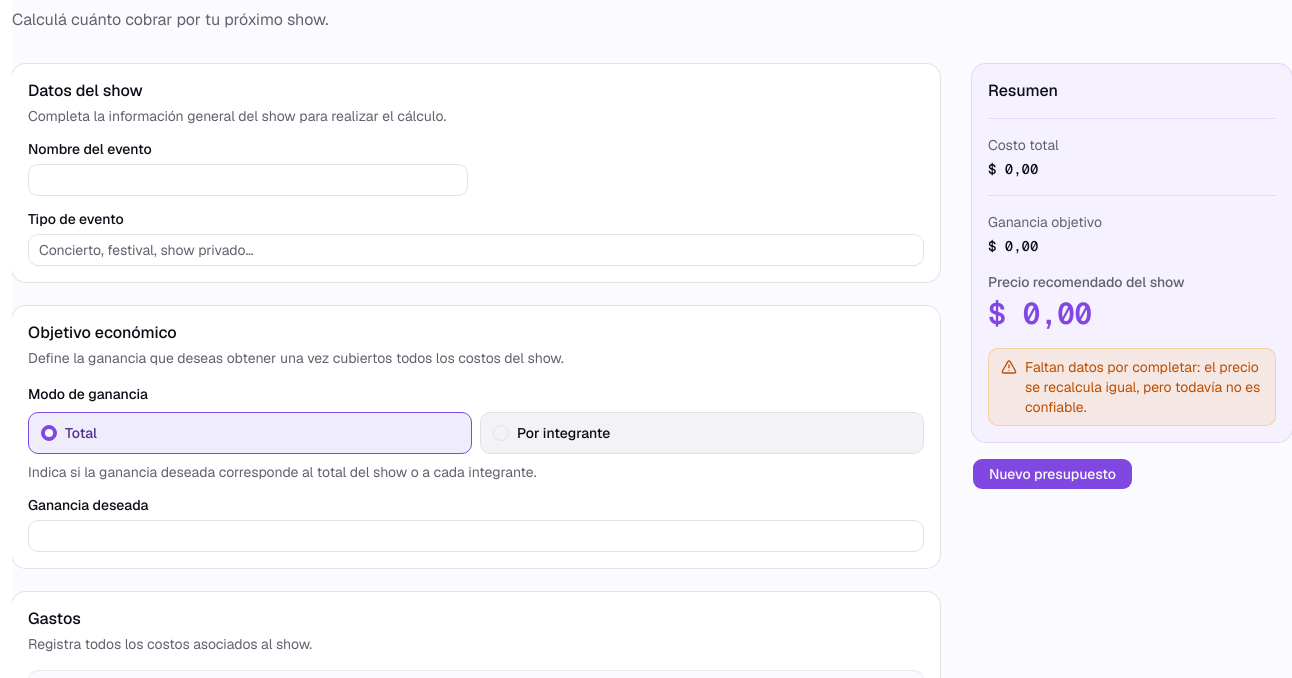
Scenario: BudgetCalculator · validación › marca error al salir de Ganancia deseada sin un valor válido
Click the number field labelled "Ganancia deseada": (476, 536) [28,520,924,552]
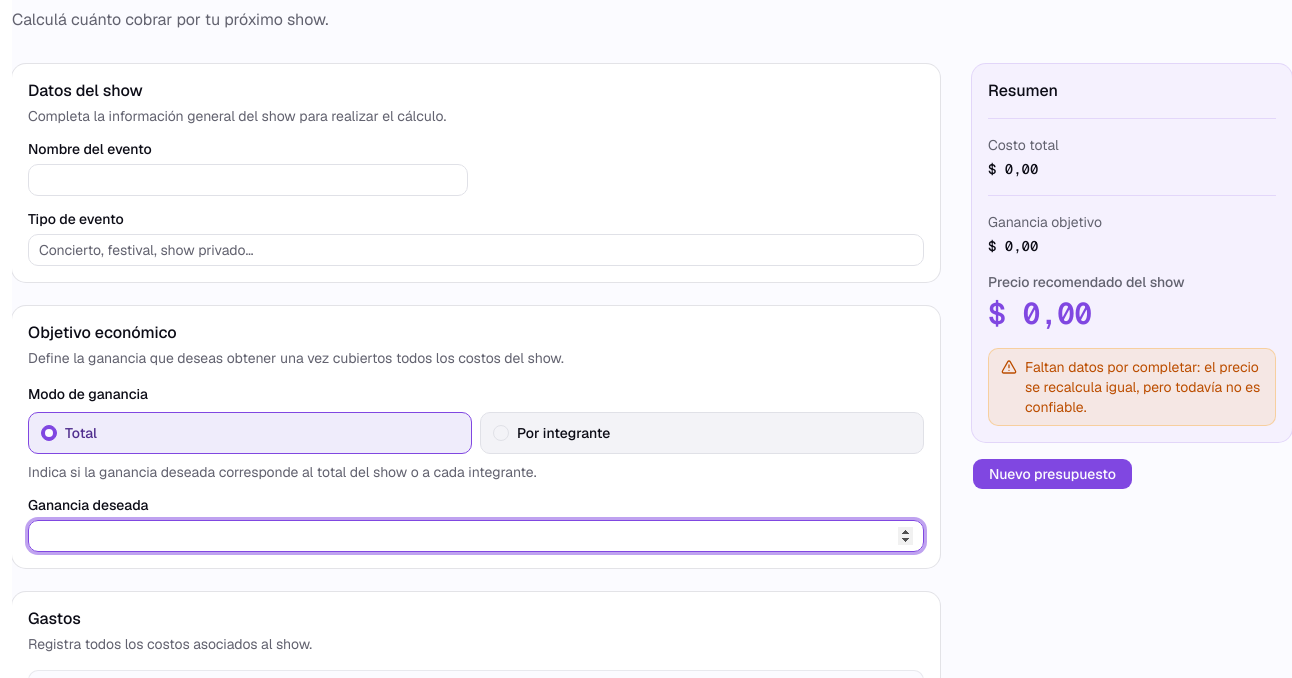
Press Tab
(page scrolled)
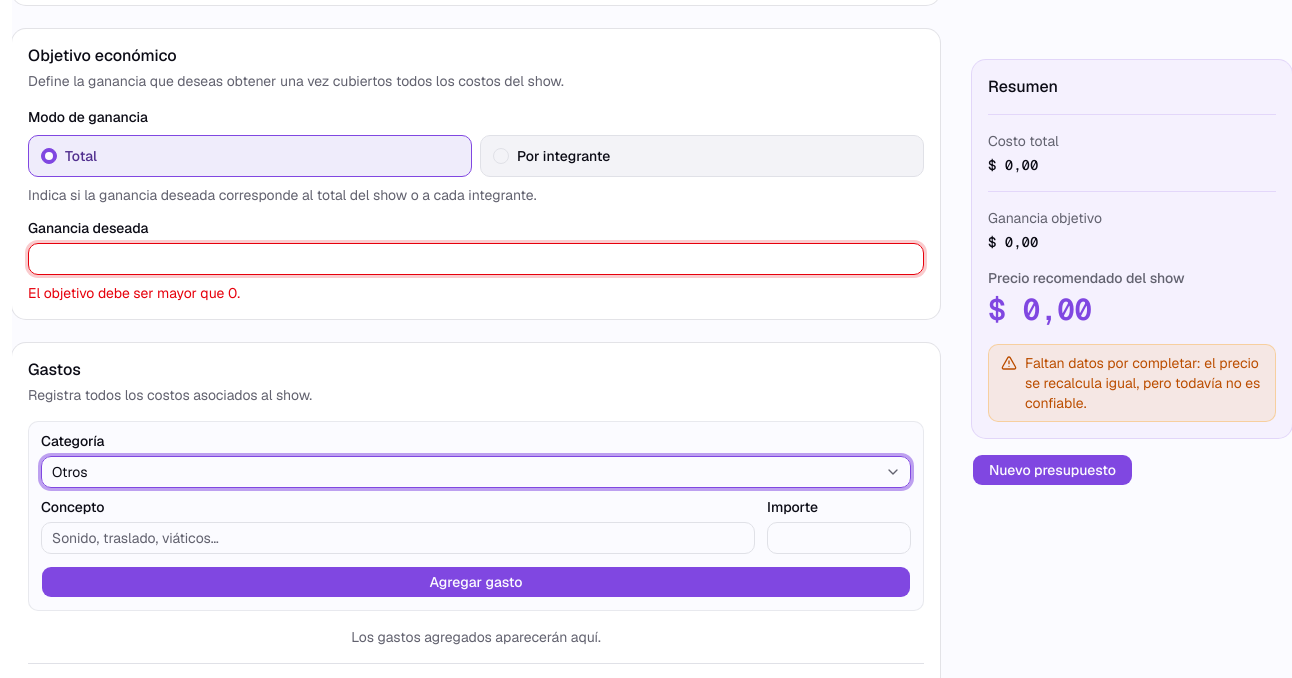
Expected: the message "El objetivo debe ser mayor que 0." is shown, [28,284,240,302]
